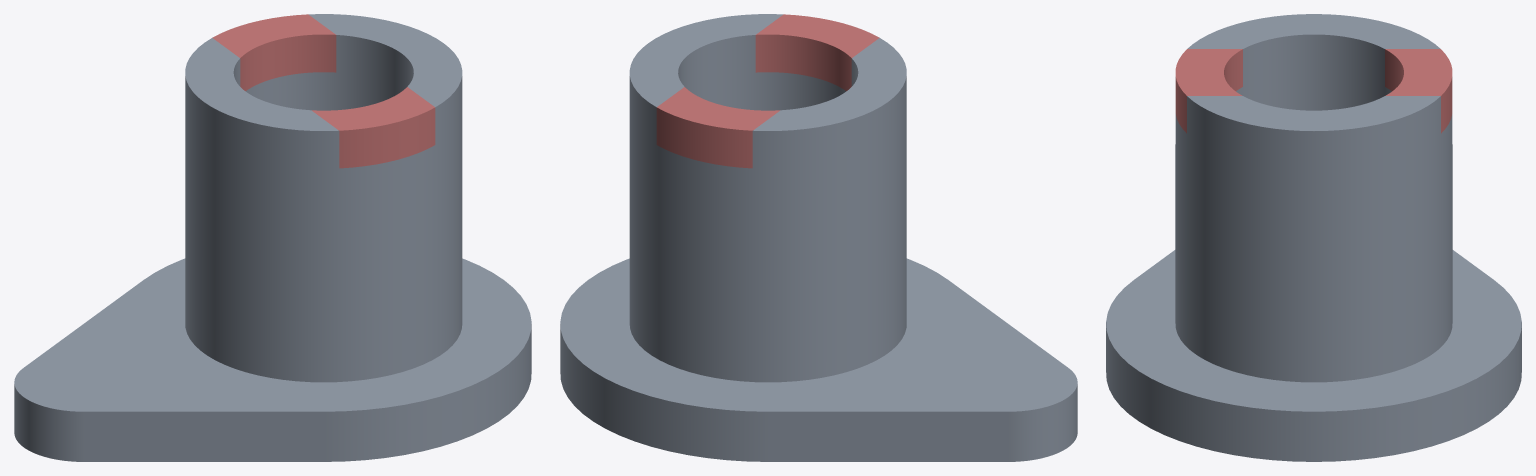
File: step_05.glb
3 renders of one model, left to right at view 1: azimuth 30°, elevation 25°; view 2: azimuth 150°, elevation 25°; view 3: azimuth 270°, elevation 25°, orthographic.
Visible parts, largest first — view 1: part__slotted boss flange, removed__slotted boss flange; view 2: part__slotted boss flange, removed__slotted boss flange; view 3: part__slotted boss flange, removed__slotted boss flange.
Part boxes in pixels (x1,y1,x2,y2): part__slotted boss flange: (14,14,531,461); removed__slotted boss flange: (212,14,435,168); part__slotted boss flange: (560,14,1077,461); removed__slotted boss flange: (656,14,879,168); part__slotted boss flange: (1106,14,1521,461); removed__slotted boss flange: (1175,49,1452,133).
Size of the model in its own units: 79.99 by 48 by 59.98.
